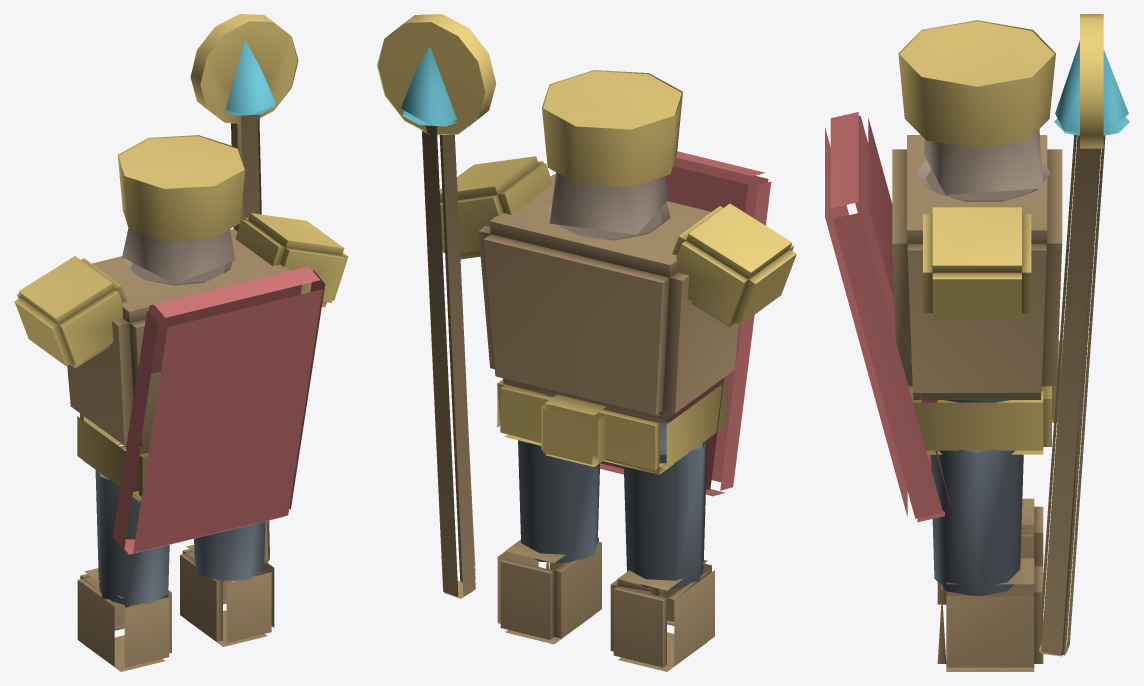
File: field_scholar_hero_lod1.glb
3 renders of one model, left to right at view 1: azimuth 30°, elevation 25°; view 2: azimuth 150°, elevation 25°; view 3: azimuth 270°, elevation 25°, orthographic. The views are drawn at different scales.
Parts seen in each view (by area): view 1: field_scholar_hero.001; view 2: field_scholar_hero.001; view 3: field_scholar_hero.001.
Part boxes in pixels (x1,y1,x2,y2): field_scholar_hero.001: (14, 14, 348, 671); field_scholar_hero.001: (377, 14, 796, 671); field_scholar_hero.001: (825, 14, 1129, 671).
Bounding box in the file's own units: 1.33 × 2.33 × 0.9565.
